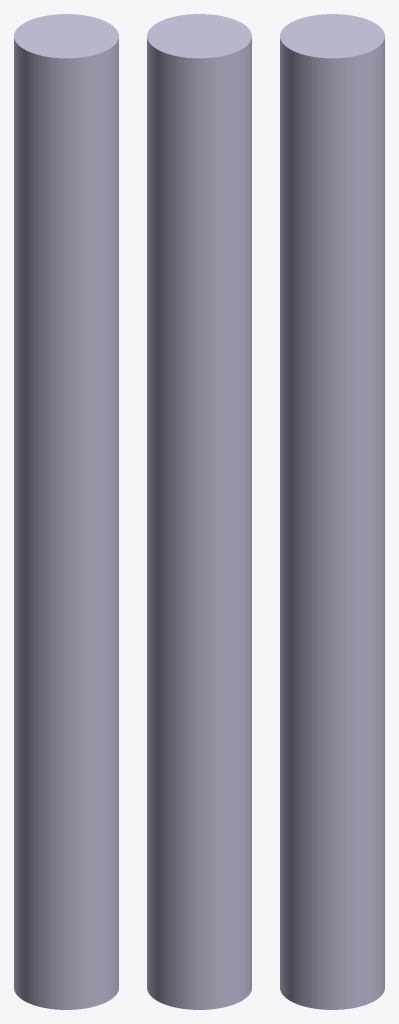
File: mini_rocket_main_body.dae
The picture shows the model from 3 angles, left to right: view 1: azimuth 30°, elevation 25°; view 2: azimuth 150°, elevation 25°; view 3: azimuth 330°, elevation 25°; orthographic projection.
Visible parts, largest first — view 1: node0; view 2: node0; view 3: node0.
Part boxes in pixels (x1,y1,x2,y2): node0: (14, 14, 118, 1009); node0: (147, 14, 251, 1009); node0: (280, 14, 384, 1009).
Size of the model in its own units: 0.1 by 0.1 by 1.
